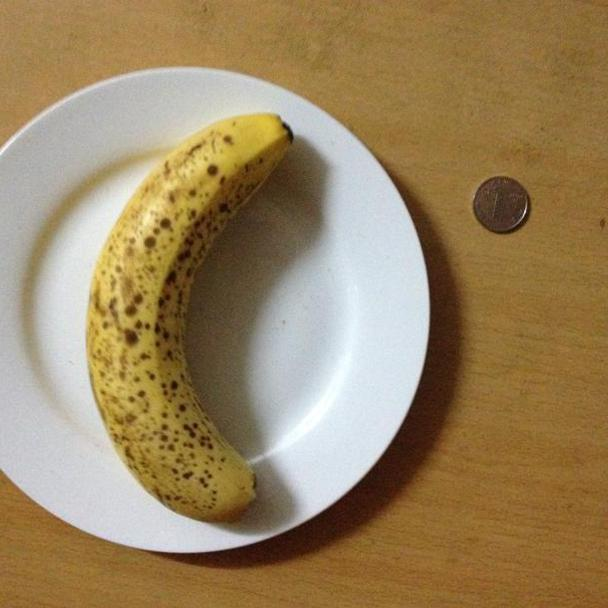banana: (83, 108, 316, 529)
